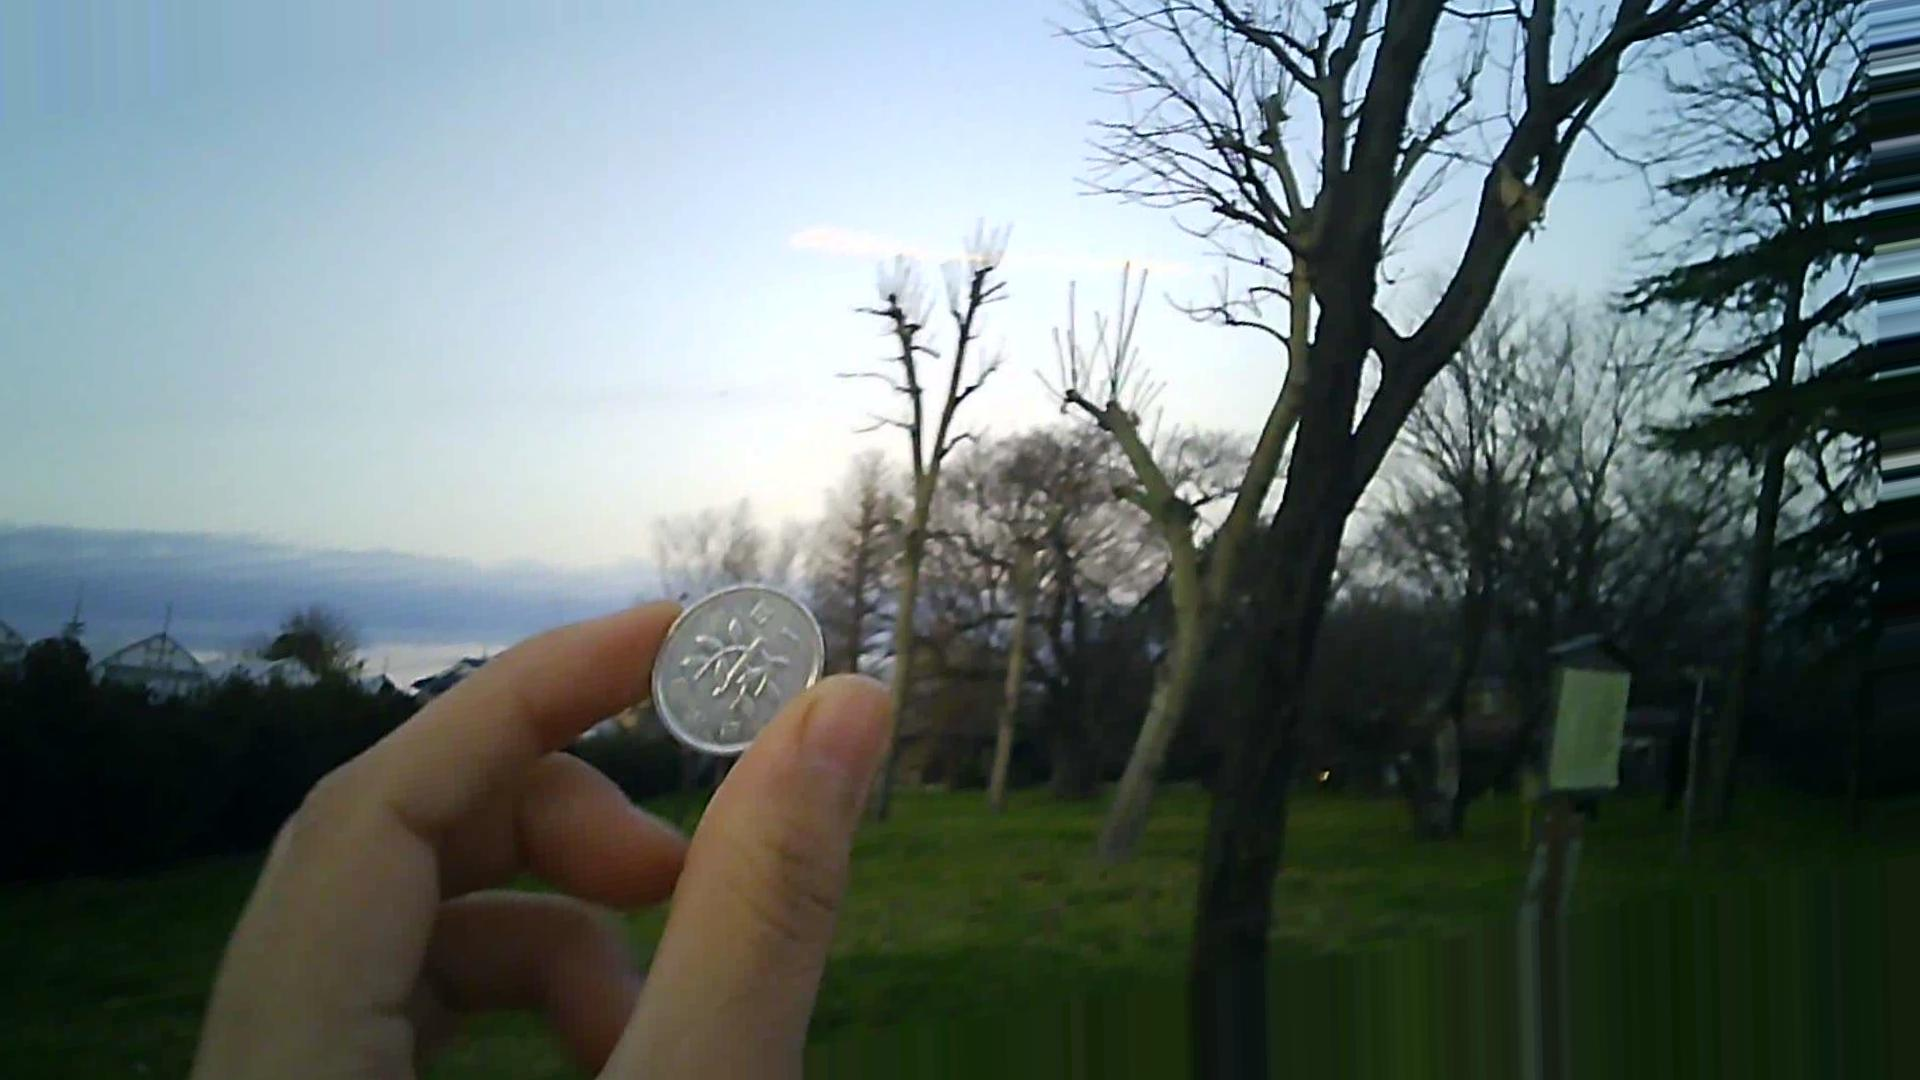1 Yen: (641, 562, 829, 735)
